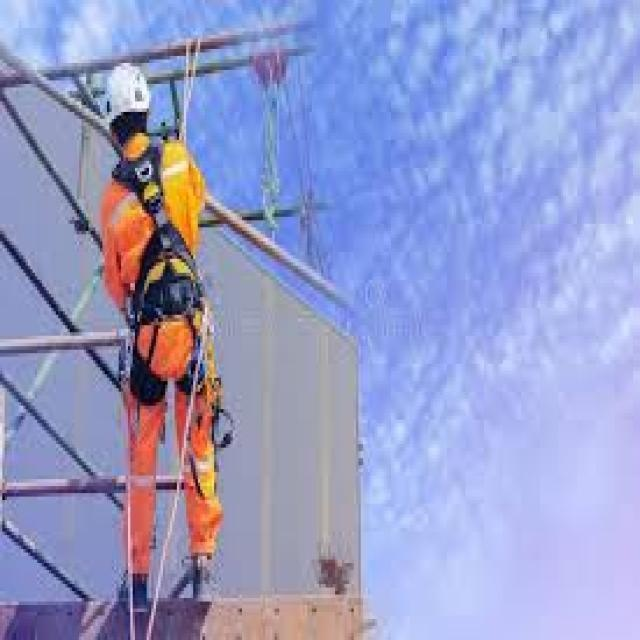Arnes_seguridad: (106, 138, 214, 391)
